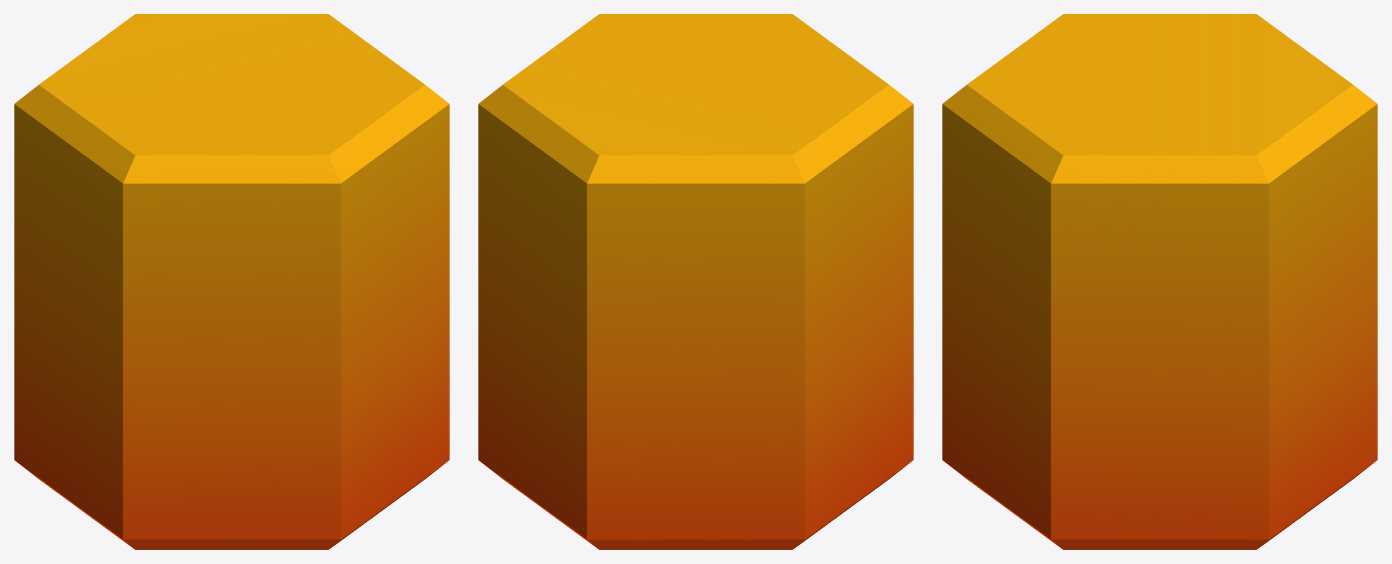
File: varil.fbx
3 renders of one model, left to right at view 1: azimuth 30°, elevation 25°; view 2: azimuth 150°, elevation 25°; view 3: azimuth 270°, elevation 25°, orthographic.
Visible parts, largest first — view 1: Cylinder; view 2: Cylinder; view 3: Cylinder.
Boxes of the visible parts, x1,y1,x2,y2 form: Cylinder: [14, 14, 449, 549]; Cylinder: [478, 14, 913, 549]; Cylinder: [942, 14, 1377, 549].
Size of the model in its own units: 173 by 200 by 200.
